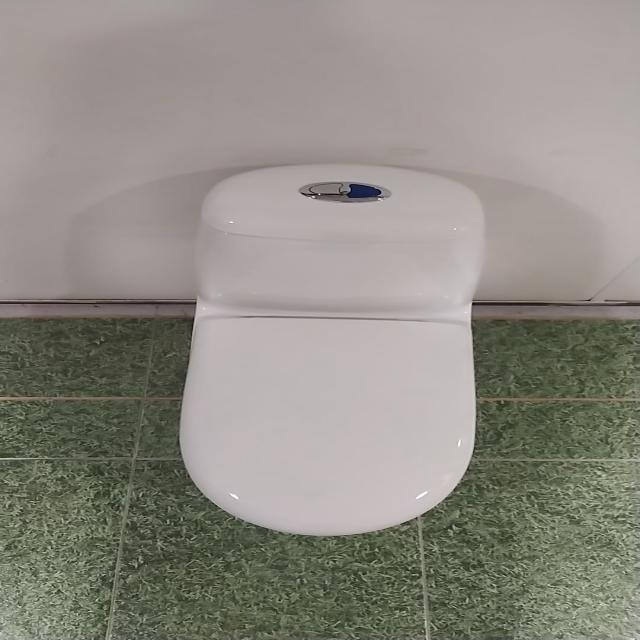toilet: (177, 162, 487, 536)
